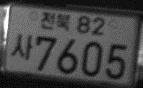0: (81, 40, 102, 76)
2: (91, 15, 105, 35)
5: (104, 43, 128, 79)
6: (56, 38, 78, 74)
7: (34, 34, 57, 71)
8: (76, 15, 90, 34)
사: (10, 33, 34, 61)
전북_H: (40, 10, 71, 31)
